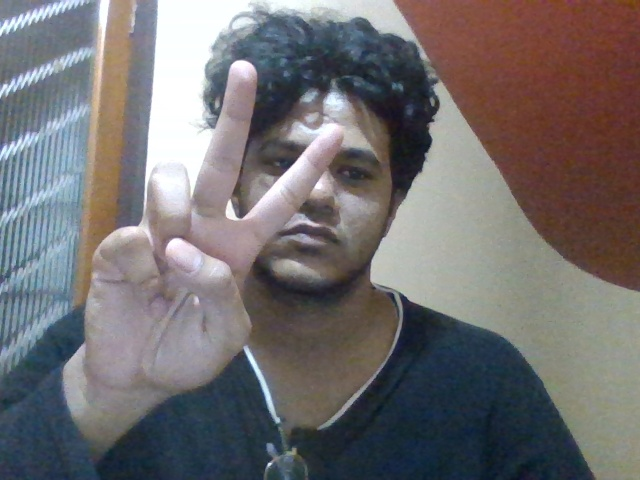yes: (74, 60, 309, 391)
